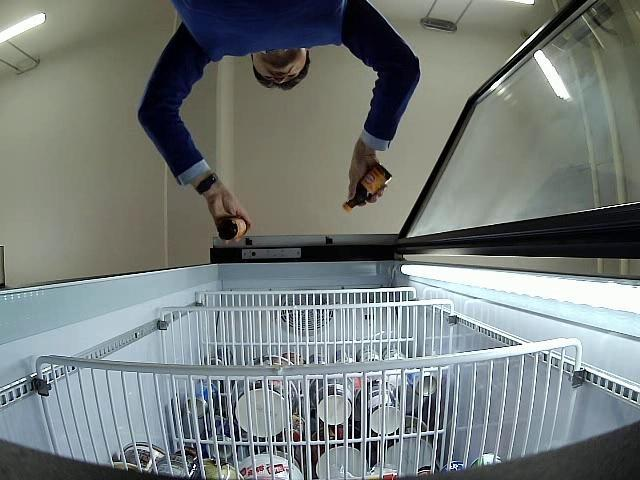17_vita500: (342, 162, 392, 214), (217, 216, 248, 240)
